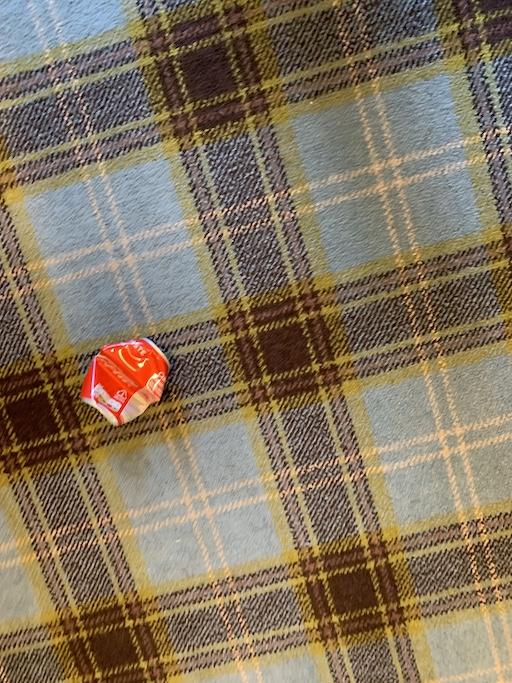Aluminum can: (57, 326, 186, 433)
